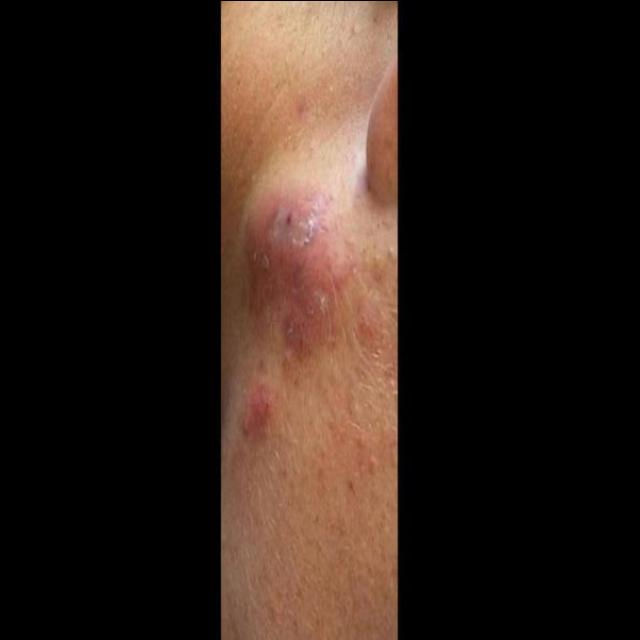nodule: (240, 132, 363, 385)
